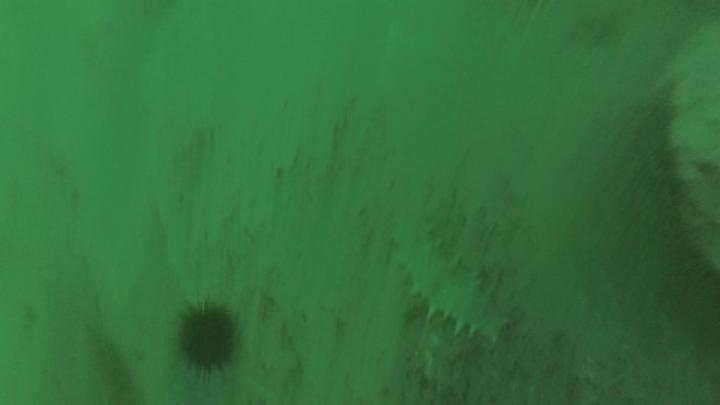echinus: (170, 295, 243, 381)
holothurian: (385, 210, 513, 345)
